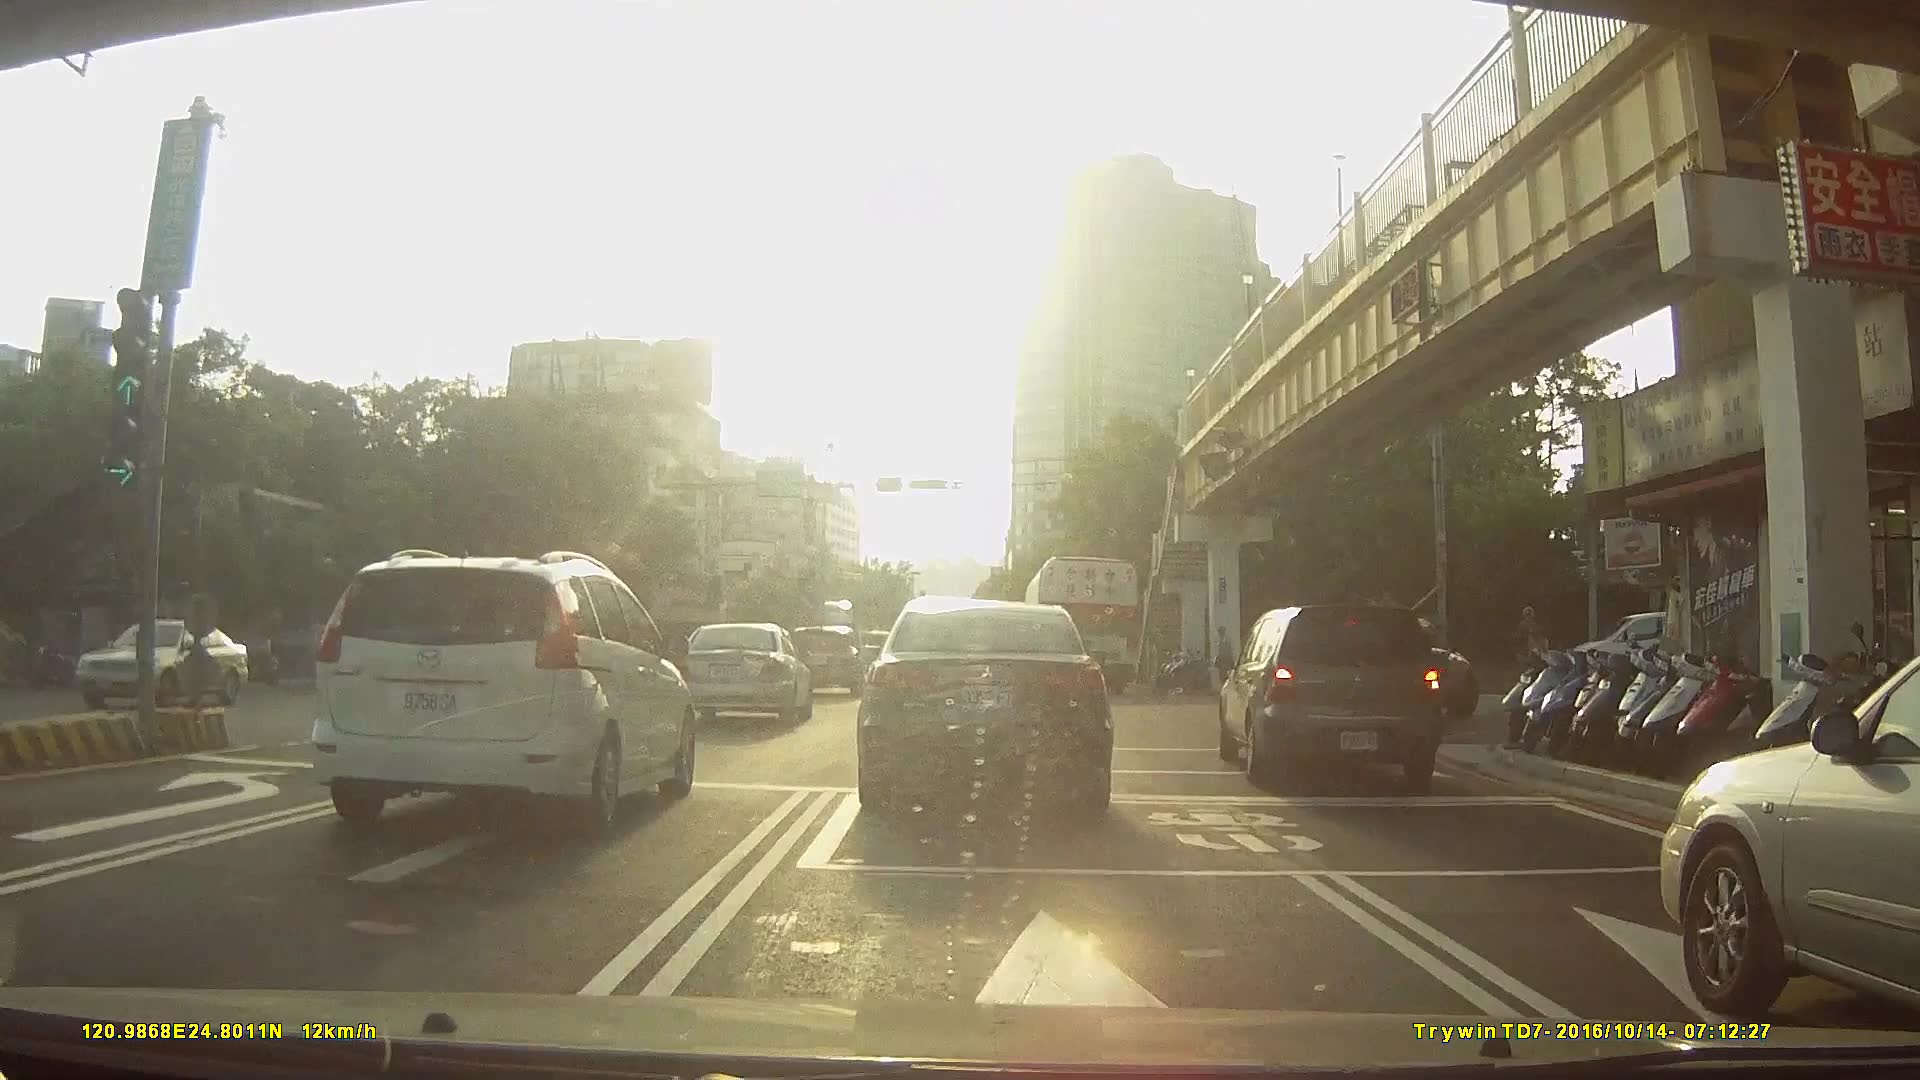pedestrian: (1214, 624, 1240, 692)
vehicle: (310, 546, 698, 833), (1662, 655, 1920, 1021), (856, 591, 1114, 821), (1215, 600, 1457, 793), (71, 619, 263, 712), (1026, 558, 1142, 698), (681, 623, 816, 729), (1362, 616, 1502, 716), (784, 624, 866, 700)
